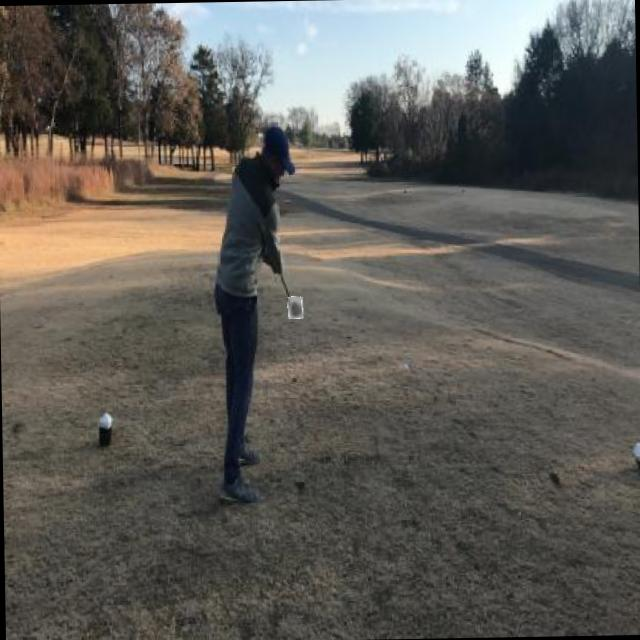club head: (288, 296, 303, 319)
